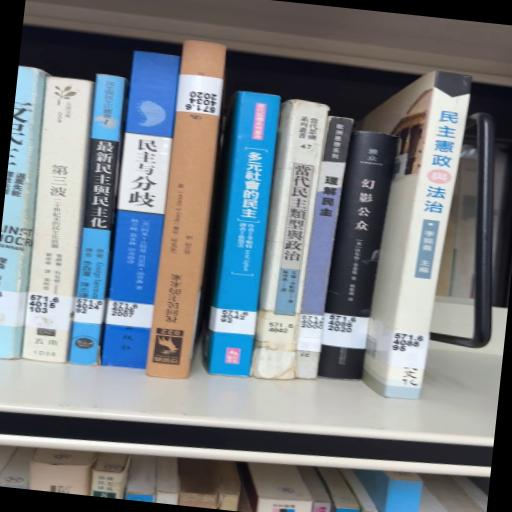reverse: (146, 40, 226, 378)
